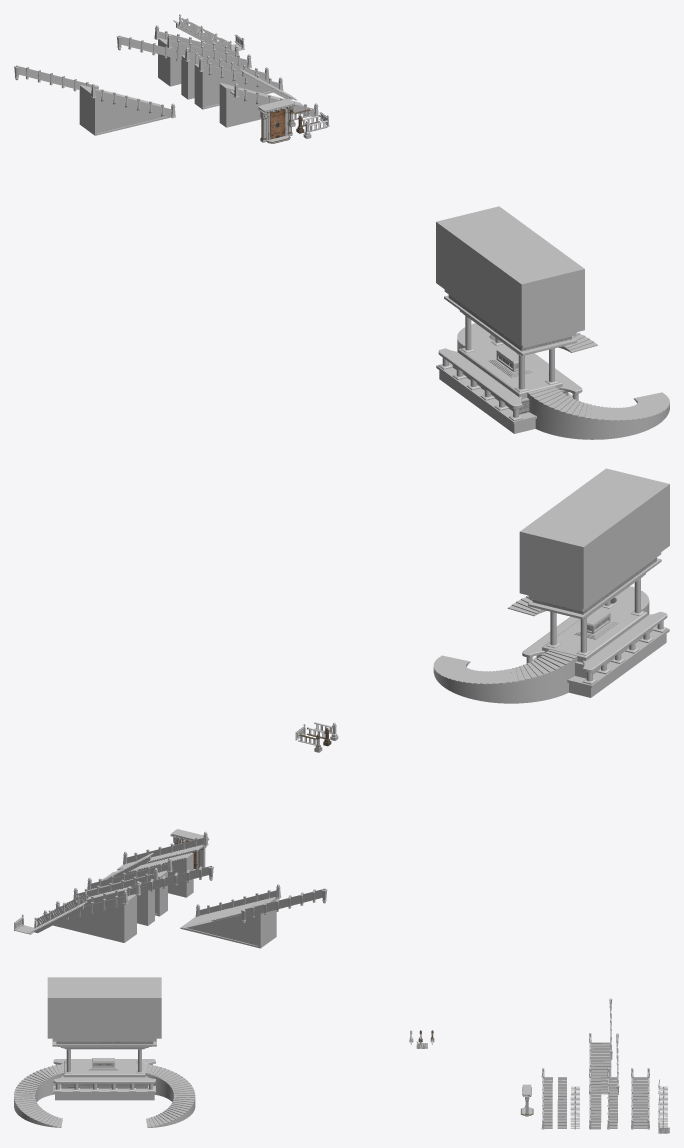
File: RoomAssets.FBX
3 views of the same model, one above another, from view 1: azimuth 30°, elevation 25°; view 2: azimuth 150°, elevation 25°; view 3: azimuth 270°, elevation 25° (orthographic). The views are drawn at different scales.
Visible parts, largest first — view 1: TombRoof, TombStairs, TombMain, StraightStair007, Box278, StraightStair003, StraightStair004, RoomDoor, GRANDStraightStair006; view 2: TombRoof, TombStairs, TombMain, StraightStair007, GRANDStraightStair006, Box278, StraightStair003, StraightStair005; view 3: TombRoof, TombStairs, TombMain, Box278, StraightStair007, GRANDStraightStair006, StraightStair004, StraightStair003, StraightStair001, StraightStair005, StraightStair002, StraightStair006 (+1 smaller).
Boxes of the visible parts, <box> form: TombRoof: <box>436,206,584,355</box>; TombStairs: <box>457,323,669,439</box>; TombMain: <box>436,340,572,433</box>; StraightStair007: <box>79,85,170,135</box>; Box278: <box>438,348,582,408</box>; StraightStair003: <box>219,83,303,127</box>; StraightStair004: <box>194,64,272,109</box>; RoomDoor: <box>257,98,295,142</box>; GRANDStraightStair006: <box>158,38,181,86</box>; TombRoof: <box>519,468,669,619</box>; TombStairs: <box>433,586,649,703</box>; TombMain: <box>532,604,669,697</box>; StraightStair007: <box>180,897,276,948</box>; GRANDStraightStair006: <box>53,894,136,942</box>; Box278: <box>522,611,667,672</box>; StraightStair003: <box>107,852,193,897</box>; StraightStair005: <box>76,886,154,925</box>; TombRoof: <box>47,977,161,1049</box>; TombStairs: <box>14,1064,195,1127</box>; TombMain: <box>53,1061,155,1100</box>; Box278: <box>53,1059,155,1083</box>; StraightStair007: <box>590,1042,611,1094</box>; GRANDStraightStair006: <box>632,1077,648,1128</box>; StraightStair004: <box>590,1077,601,1129</box>; StraightStair003: <box>557,1077,566,1128</box>; StraightStair001: <box>543,1077,552,1128</box>; StraightStair005: <box>609,1077,617,1128</box>; StraightStair002: <box>570,1086,579,1129</box>; StraightStair006: <box>659,1086,667,1128</box>.
Size of the model in its own units: 842 by 463 by 2707.
